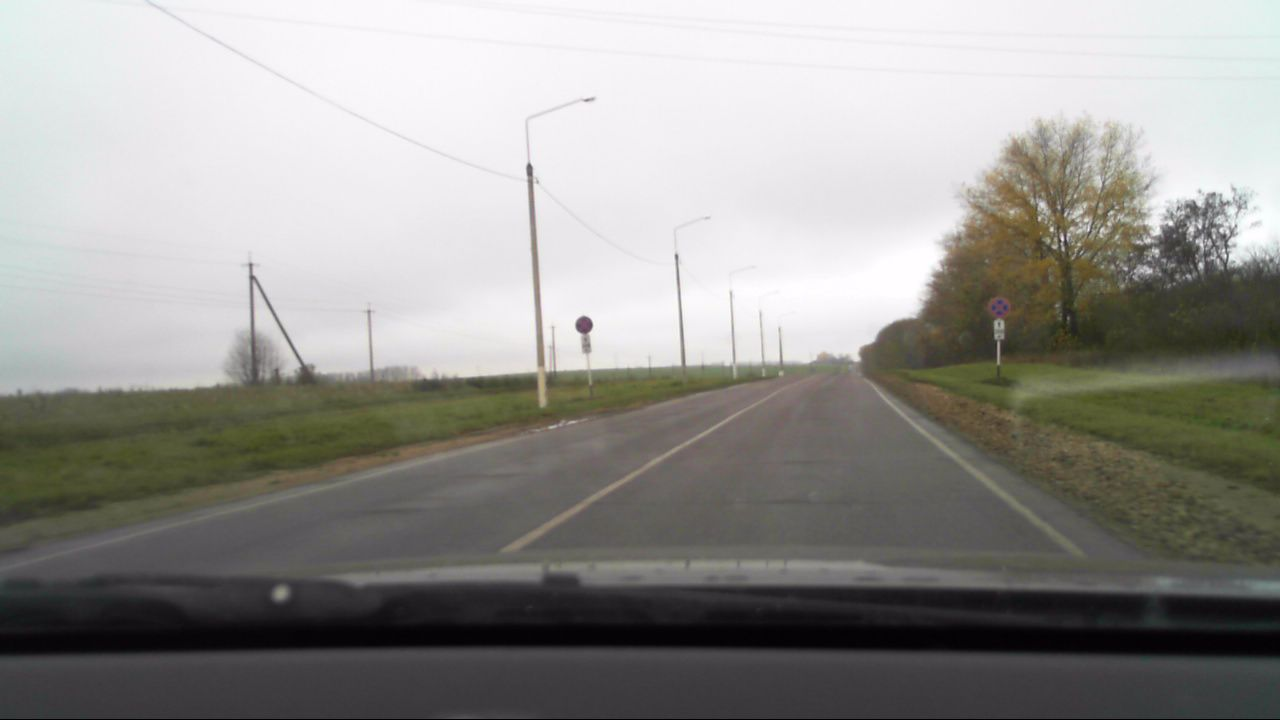No Parking: (575, 314, 593, 333)
